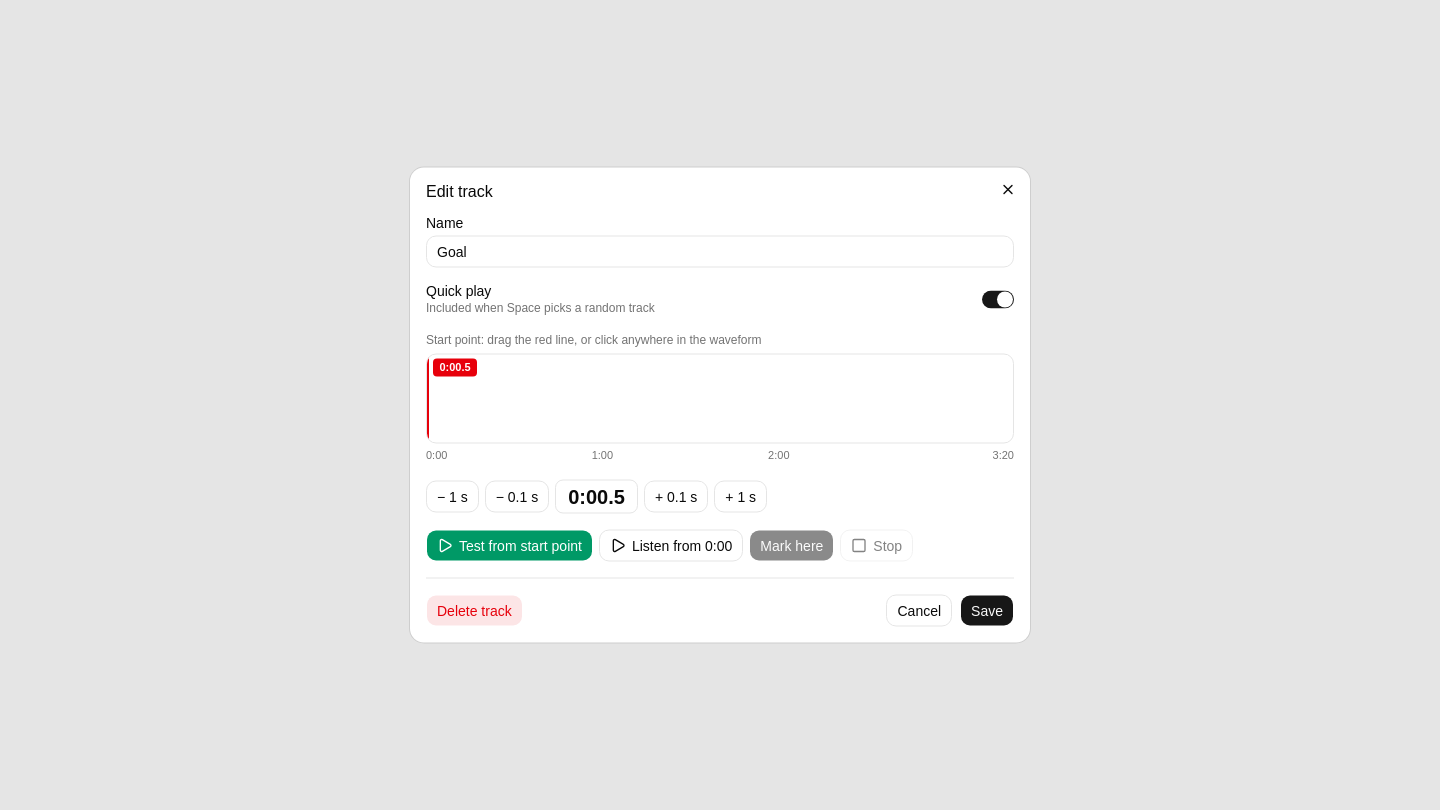
Scenario: nudging below zero stops at 0:00.0
Click the button "− 1 s". click: x=452, y=496
box: [426,480,479,512]
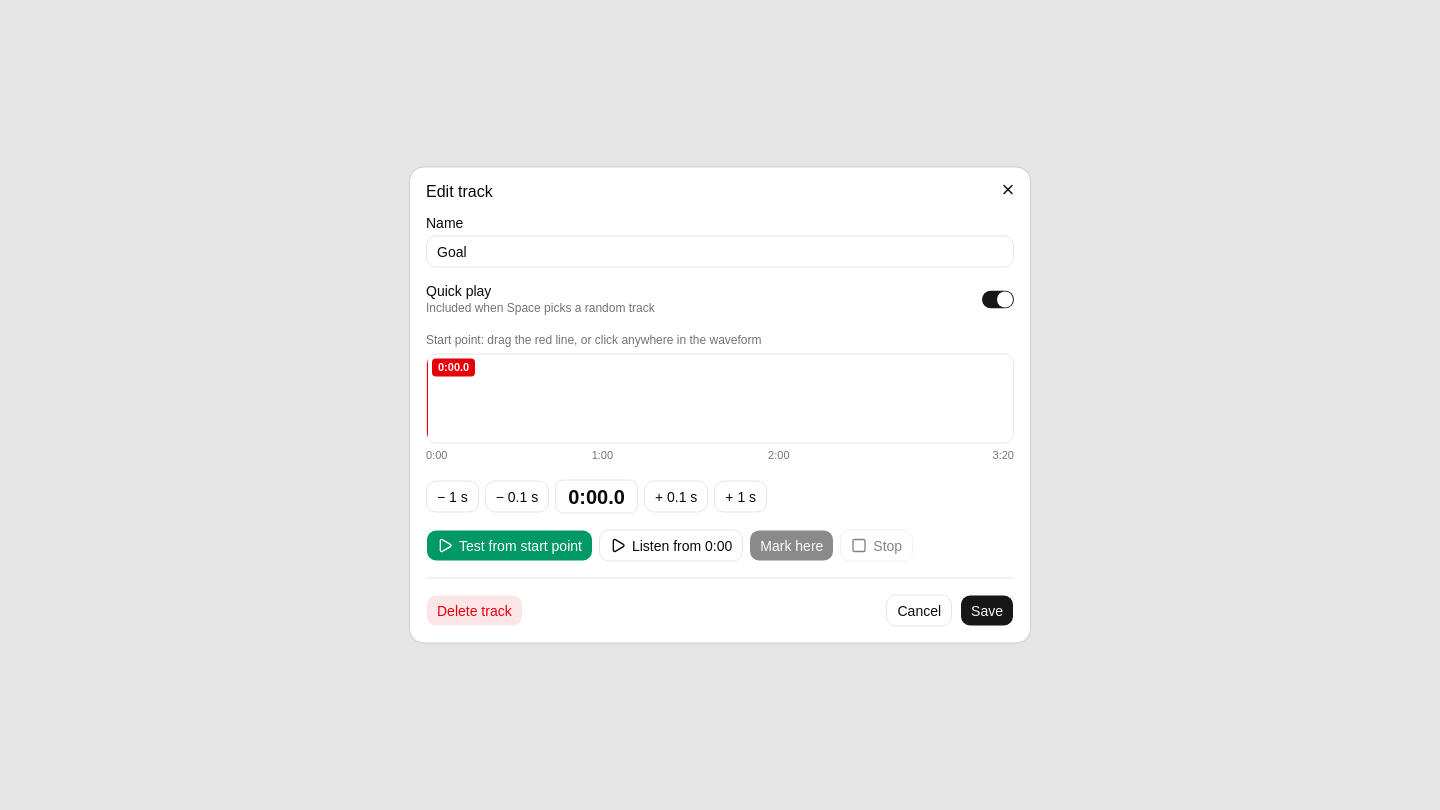
Check: the text named "Start point" reads "0:00.0", box [568,486,625,508]
